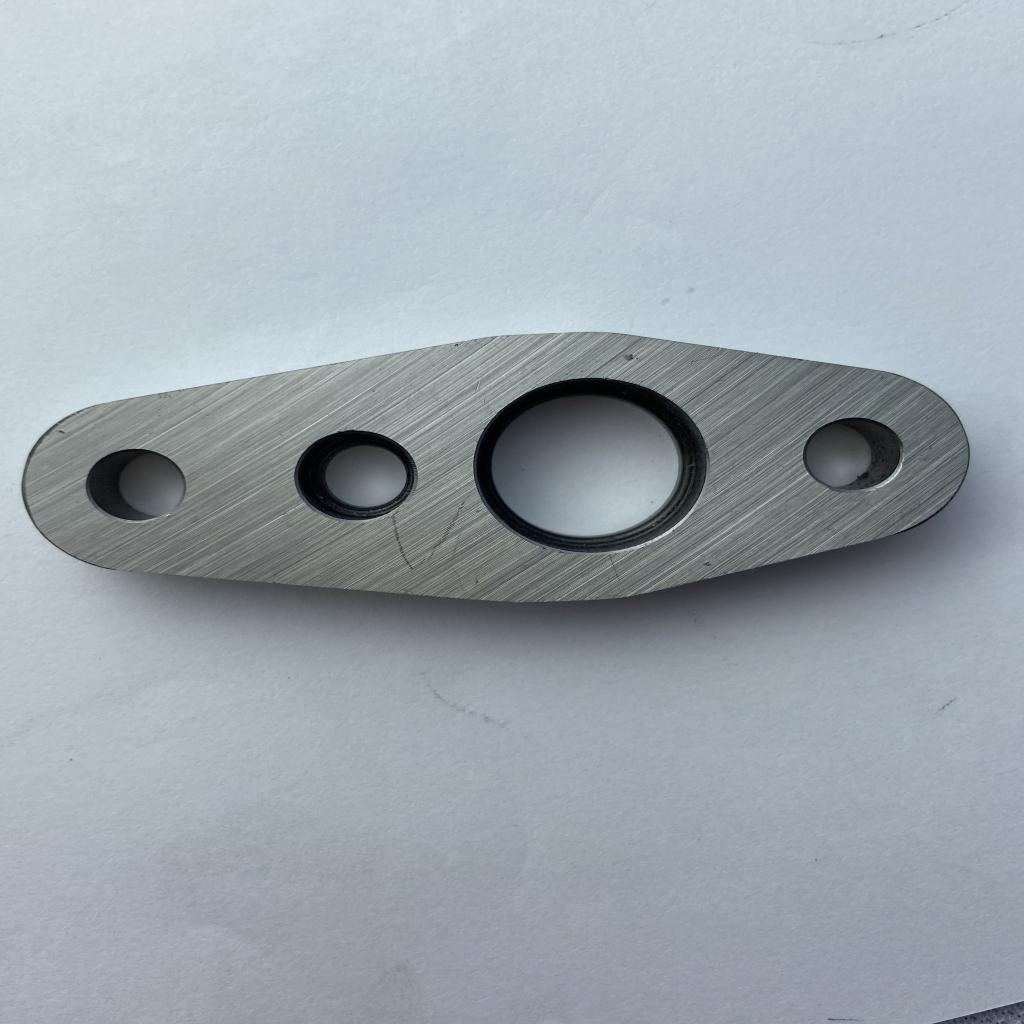chap: (472, 380, 494, 413), (56, 426, 70, 438)
lines: (391, 515, 454, 568), (608, 555, 628, 590), (617, 349, 642, 365)
